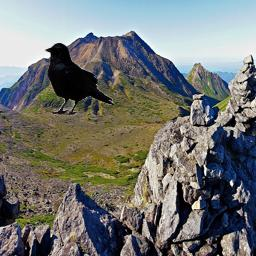Crow: (43, 42, 116, 116)
